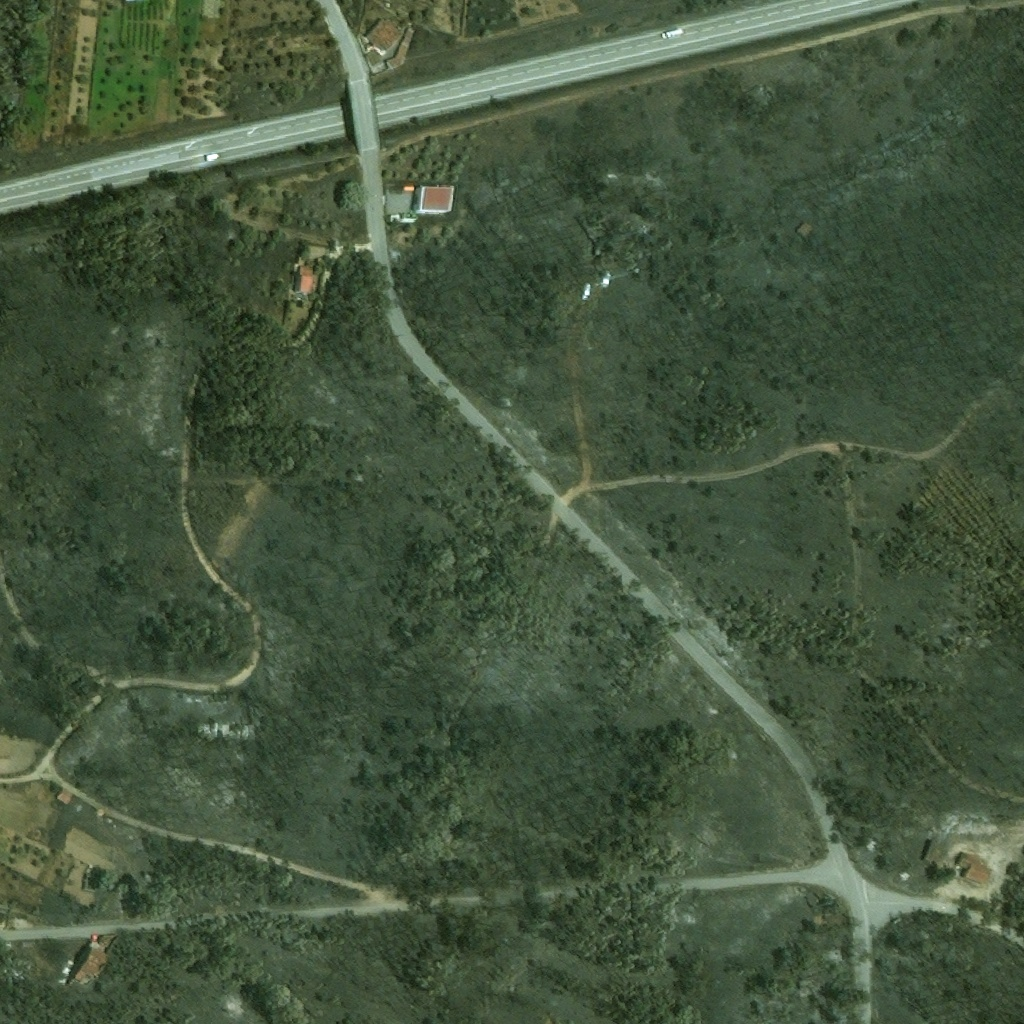0 no-damage: (63, 947, 108, 991), (412, 187, 452, 216), (958, 850, 991, 885), (368, 18, 402, 51), (925, 840, 955, 865), (296, 267, 312, 294), (56, 793, 70, 805), (90, 940, 100, 951), (389, 216, 398, 224), (403, 188, 413, 193)
3 destroyed: (631, 219, 650, 236), (215, 695, 227, 702)
4 un-classified: (216, 723, 250, 739), (138, 701, 146, 708)
